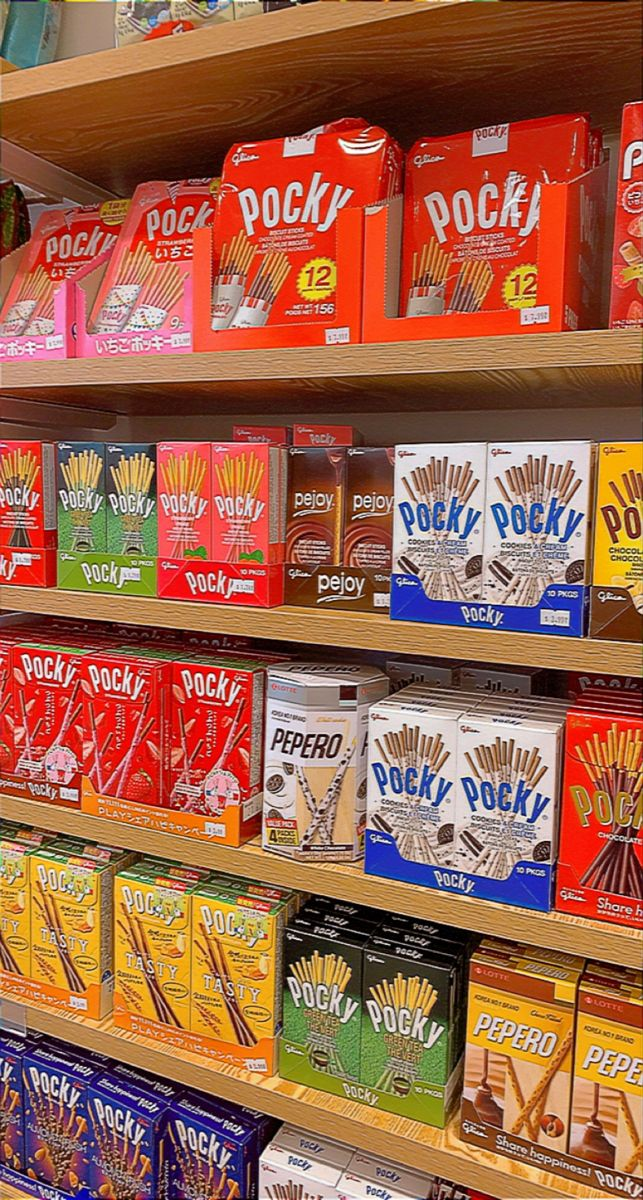Pepero: (265, 704, 360, 799), (468, 982, 563, 1077)
Pocky: (228, 149, 365, 286), (382, 459, 484, 561), (486, 469, 588, 571), (450, 744, 552, 846), (266, 947, 368, 1049), (166, 641, 261, 736), (149, 466, 215, 532)
